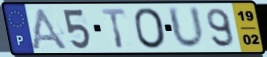5: (61, 7, 93, 50)
9: (205, 8, 236, 49)
A: (29, 6, 71, 52)
O: (132, 6, 169, 50)
T: (99, 7, 128, 50)
U: (166, 5, 207, 51)
